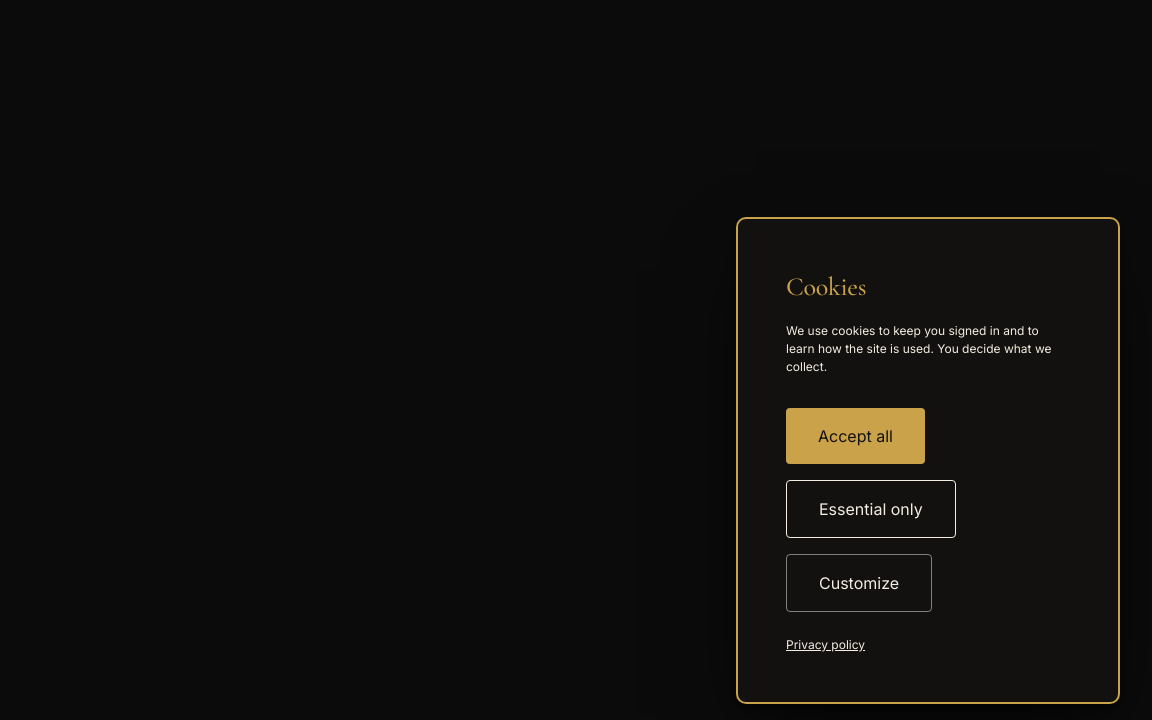
Scenario: ConsentCustomizePanel a11y › Esc closes the dialog
The width and height of the screenshot is (1152, 720).
Click the button "Customize". click: (859, 583)
box: [786,554,932,612]
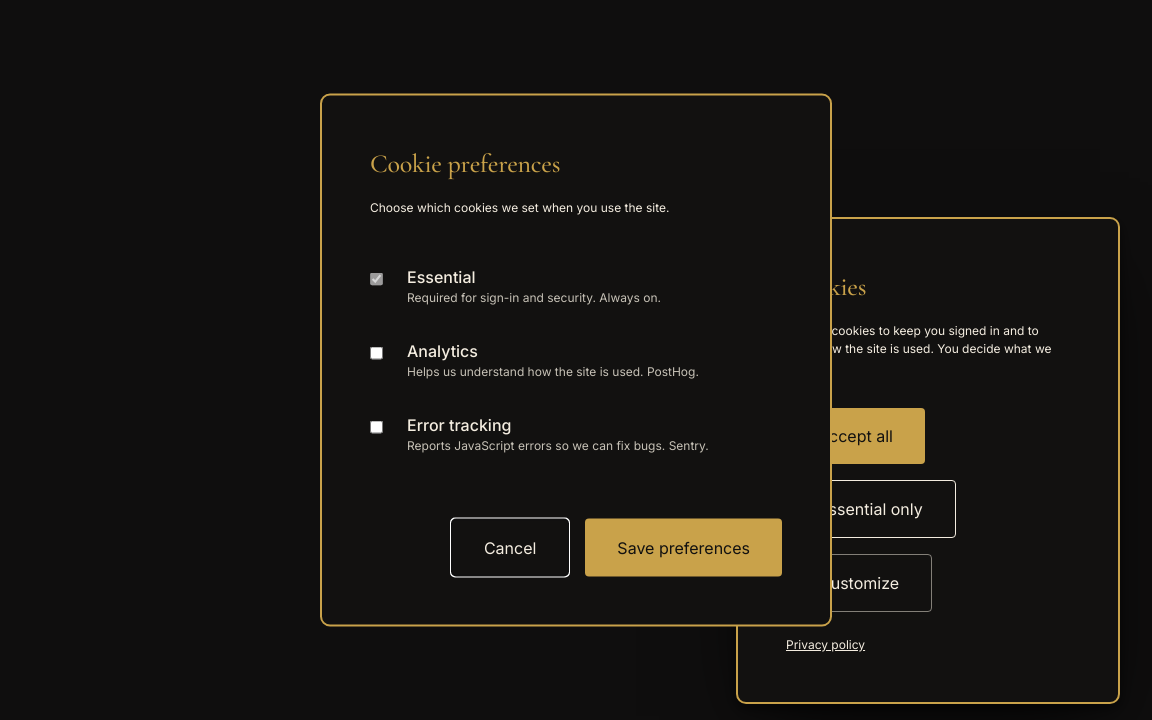
Result: the dialog is shown at [320,94,832,626]
Press Escape
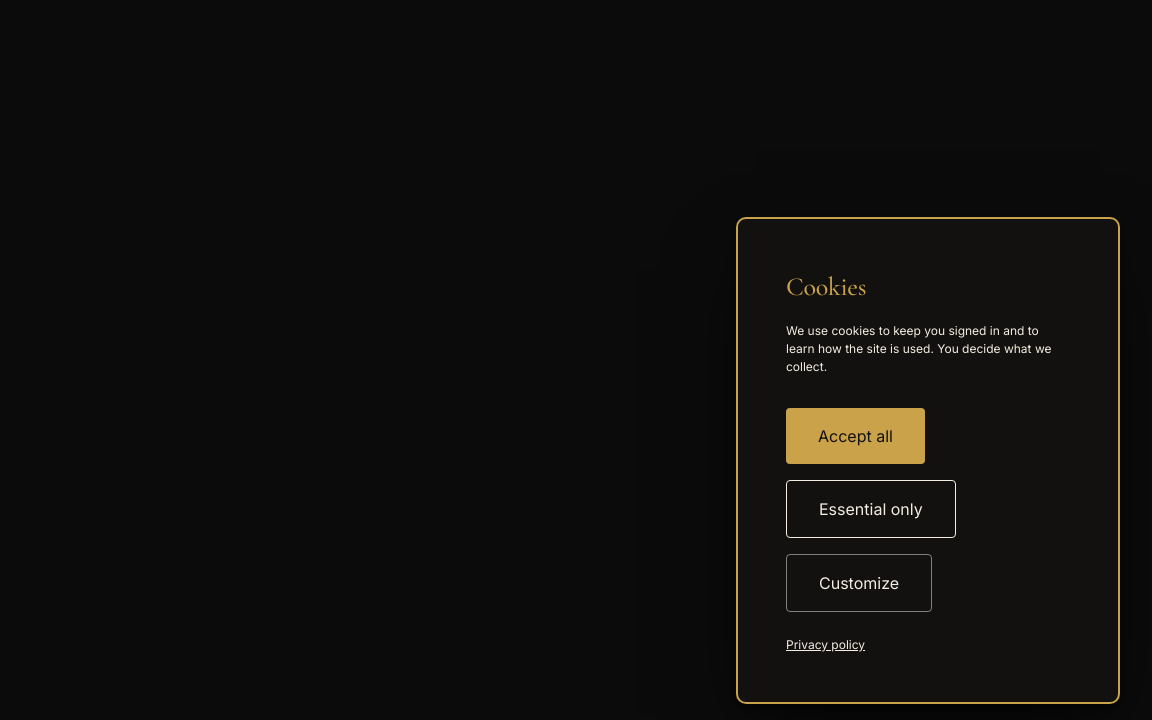
Result: the dialog is gone
